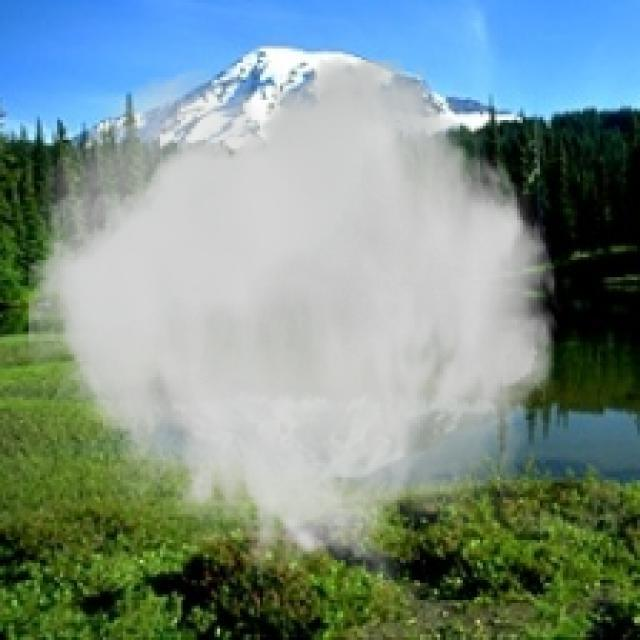Smoke: (28, 57, 563, 592)
